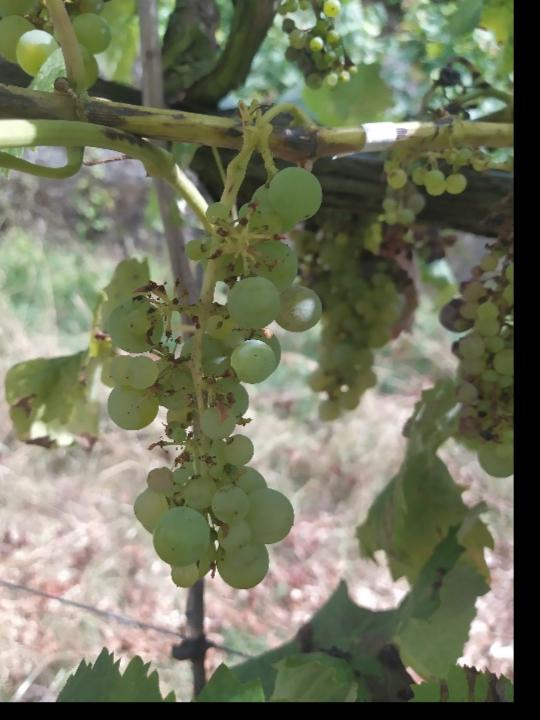grape: (96, 164, 328, 592)
